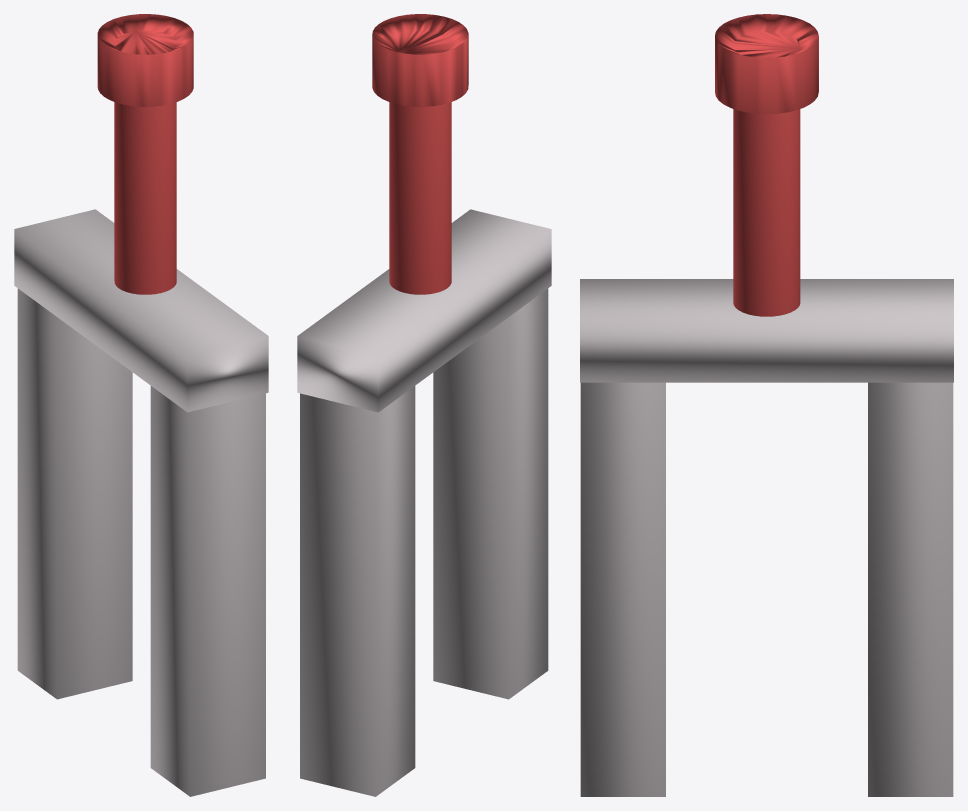
Rendered from poignier.fbx.
3 renders of one model, left to right at view 1: azimuth 30°, elevation 25°; view 2: azimuth 150°, elevation 25°; view 3: azimuth 270°, elevation 25°, orthographic. The views are drawn at different scales.
Parts seen in each view (by area): view 1: Cube.001, Cube, Cube.002, Cylinder; view 2: Cube, Cube.001, Cube.002, Cylinder; view 3: Cube.002, Cube, Cube.001, Cylinder.
Part boxes in pixels (x1,y1,x2,y2): Cube.001: [150, 386, 265, 796]; Cube: [17, 288, 132, 699]; Cube.002: [14, 209, 268, 412]; Cylinder: [97, 14, 193, 294]; Cube: [300, 386, 415, 796]; Cube.001: [433, 288, 548, 699]; Cube.002: [297, 209, 551, 412]; Cylinder: [372, 14, 468, 294]; Cube.002: [580, 279, 953, 382]; Cube: [868, 382, 953, 796]; Cube.001: [580, 382, 665, 796]; Cylinder: [715, 14, 818, 316].
Bounding box in the file's own units: 32.02 × 244 × 111.
